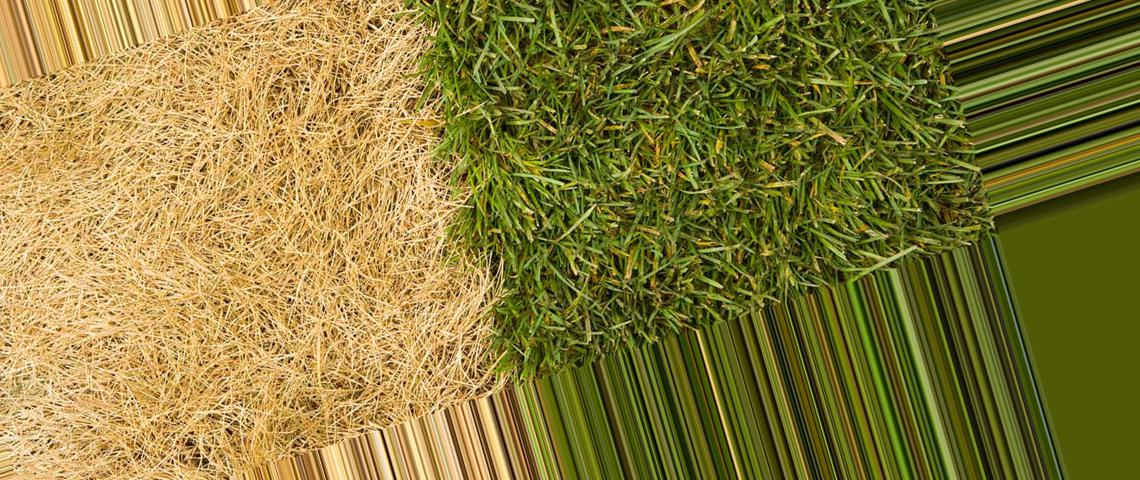patch: (218, 227, 453, 364), (35, 278, 208, 383), (222, 85, 362, 175), (250, 368, 374, 441), (73, 414, 197, 474), (73, 139, 164, 210), (203, 36, 306, 57), (78, 227, 150, 255), (333, 18, 387, 55), (9, 152, 45, 207), (88, 75, 161, 101)
